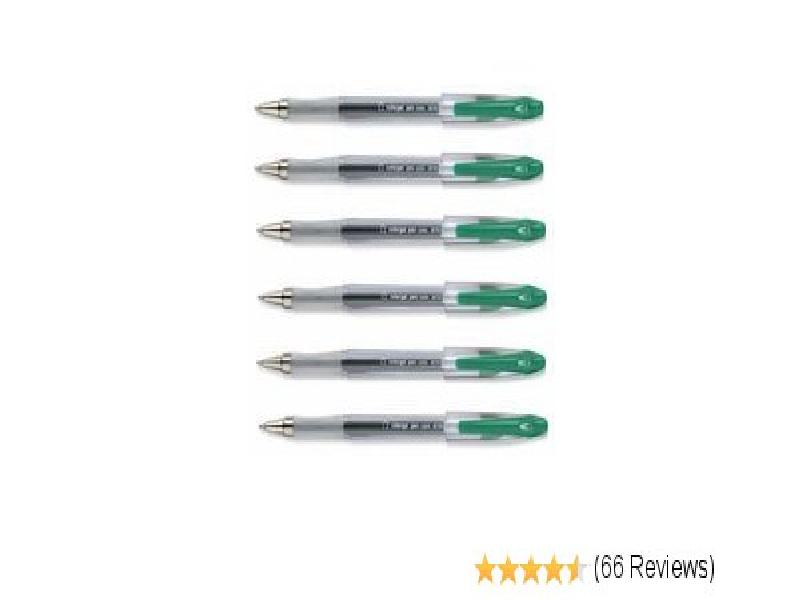pen: (245, 402, 556, 456), (248, 270, 553, 323), (249, 204, 552, 256), (251, 82, 548, 135), (247, 339, 554, 390), (250, 142, 550, 194)
